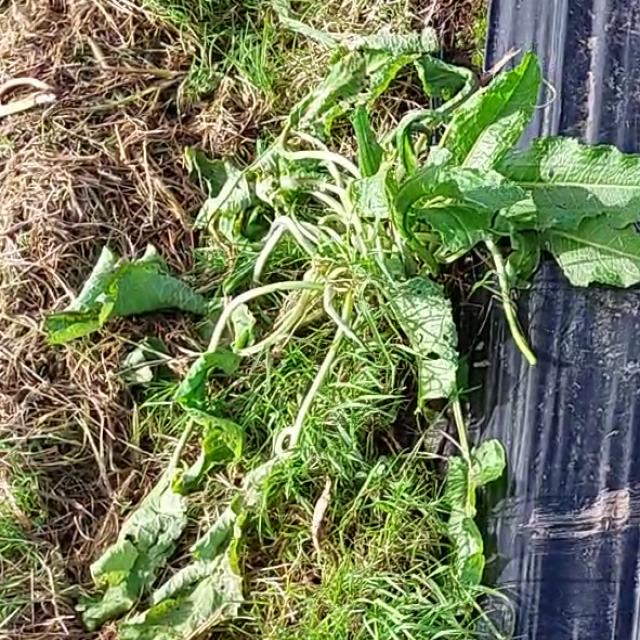organic waste: (43, 31, 640, 640)
